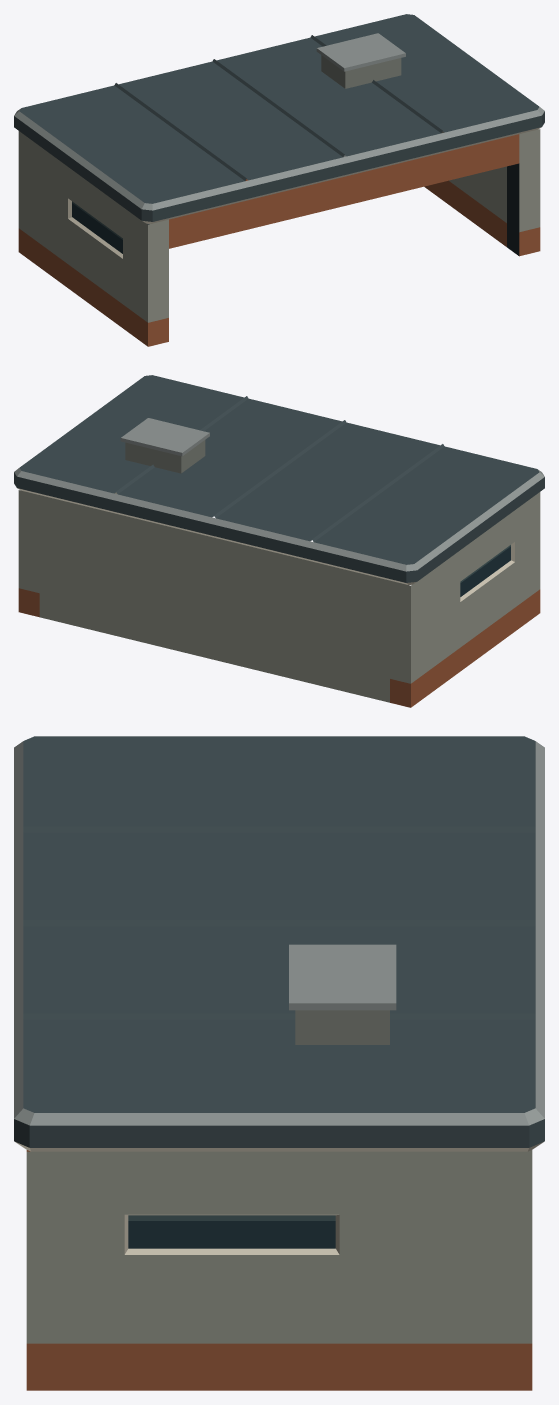
File: repair-shop.glb
The picture shows the model from 3 angles, top to bottom: view 1: azimuth 30°, elevation 25°; view 2: azimuth 150°, elevation 25°; view 3: azimuth 270°, elevation 25°; orthographic projection. The views are drawn at different scales.
Visible parts, largest first — view 1: Service_repair_roof, Service_repair_shell; view 2: Service_repair_shell, Service_repair_roof; view 3: Service_repair_roof, Service_repair_shell.
Boxes of the visible parts, bbox=[...] form: Service_repair_roof: bbox=[14, 14, 544, 223]; Service_repair_shell: bbox=[18, 129, 540, 346]; Service_repair_shell: bbox=[18, 490, 540, 707]; Service_repair_roof: bbox=[14, 375, 544, 584]; Service_repair_roof: bbox=[14, 736, 544, 1151]; Service_repair_shell: bbox=[26, 1150, 532, 1390].
Bounding box in the file's own units: 28.8 × 11.28 × 16.8.
